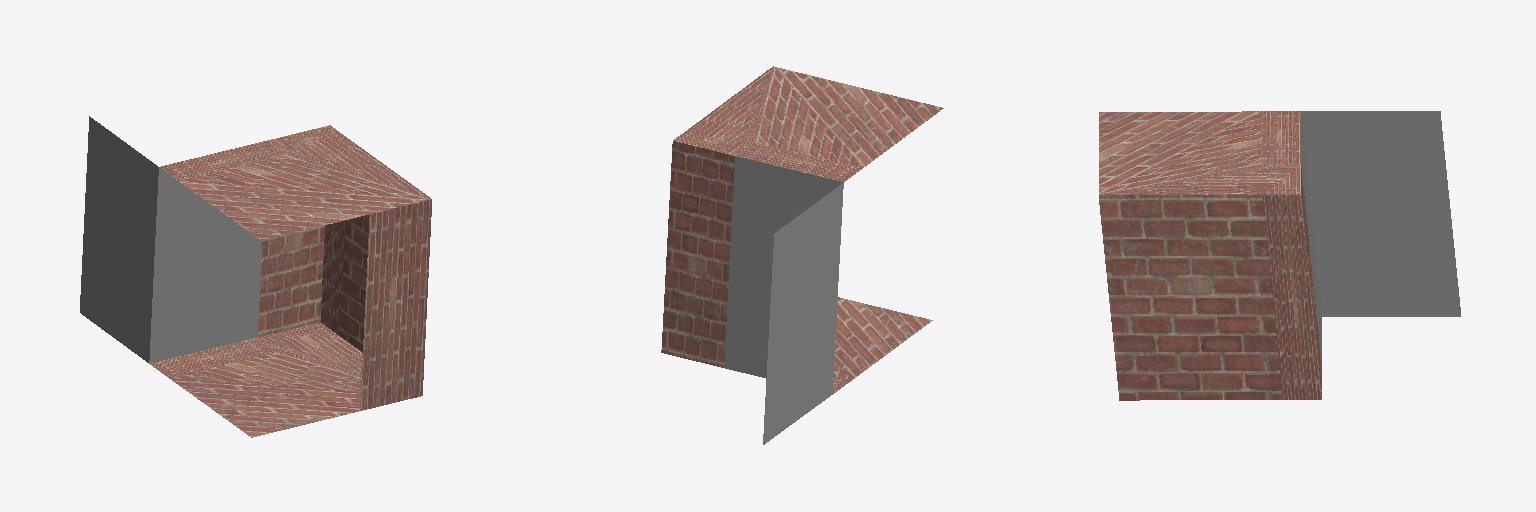
The picture shows the model from 3 angles: view 1: azimuth 30°, elevation 25°; view 2: azimuth 150°, elevation 25°; view 3: azimuth 270°, elevation 25°; orthographic projection.
Visible parts, largest first — view 1: Cube; view 2: Cube; view 3: Cube.
Boxes of the visible parts, <box> form: Cube: <box>80,116,431,437</box>; Cube: <box>661,66,943,444</box>; Cube: <box>1099,111,1460,400</box>.
Size of the model in its own units: 25.51 by 28.87 by 46.39.
2 materials, 1 textured.